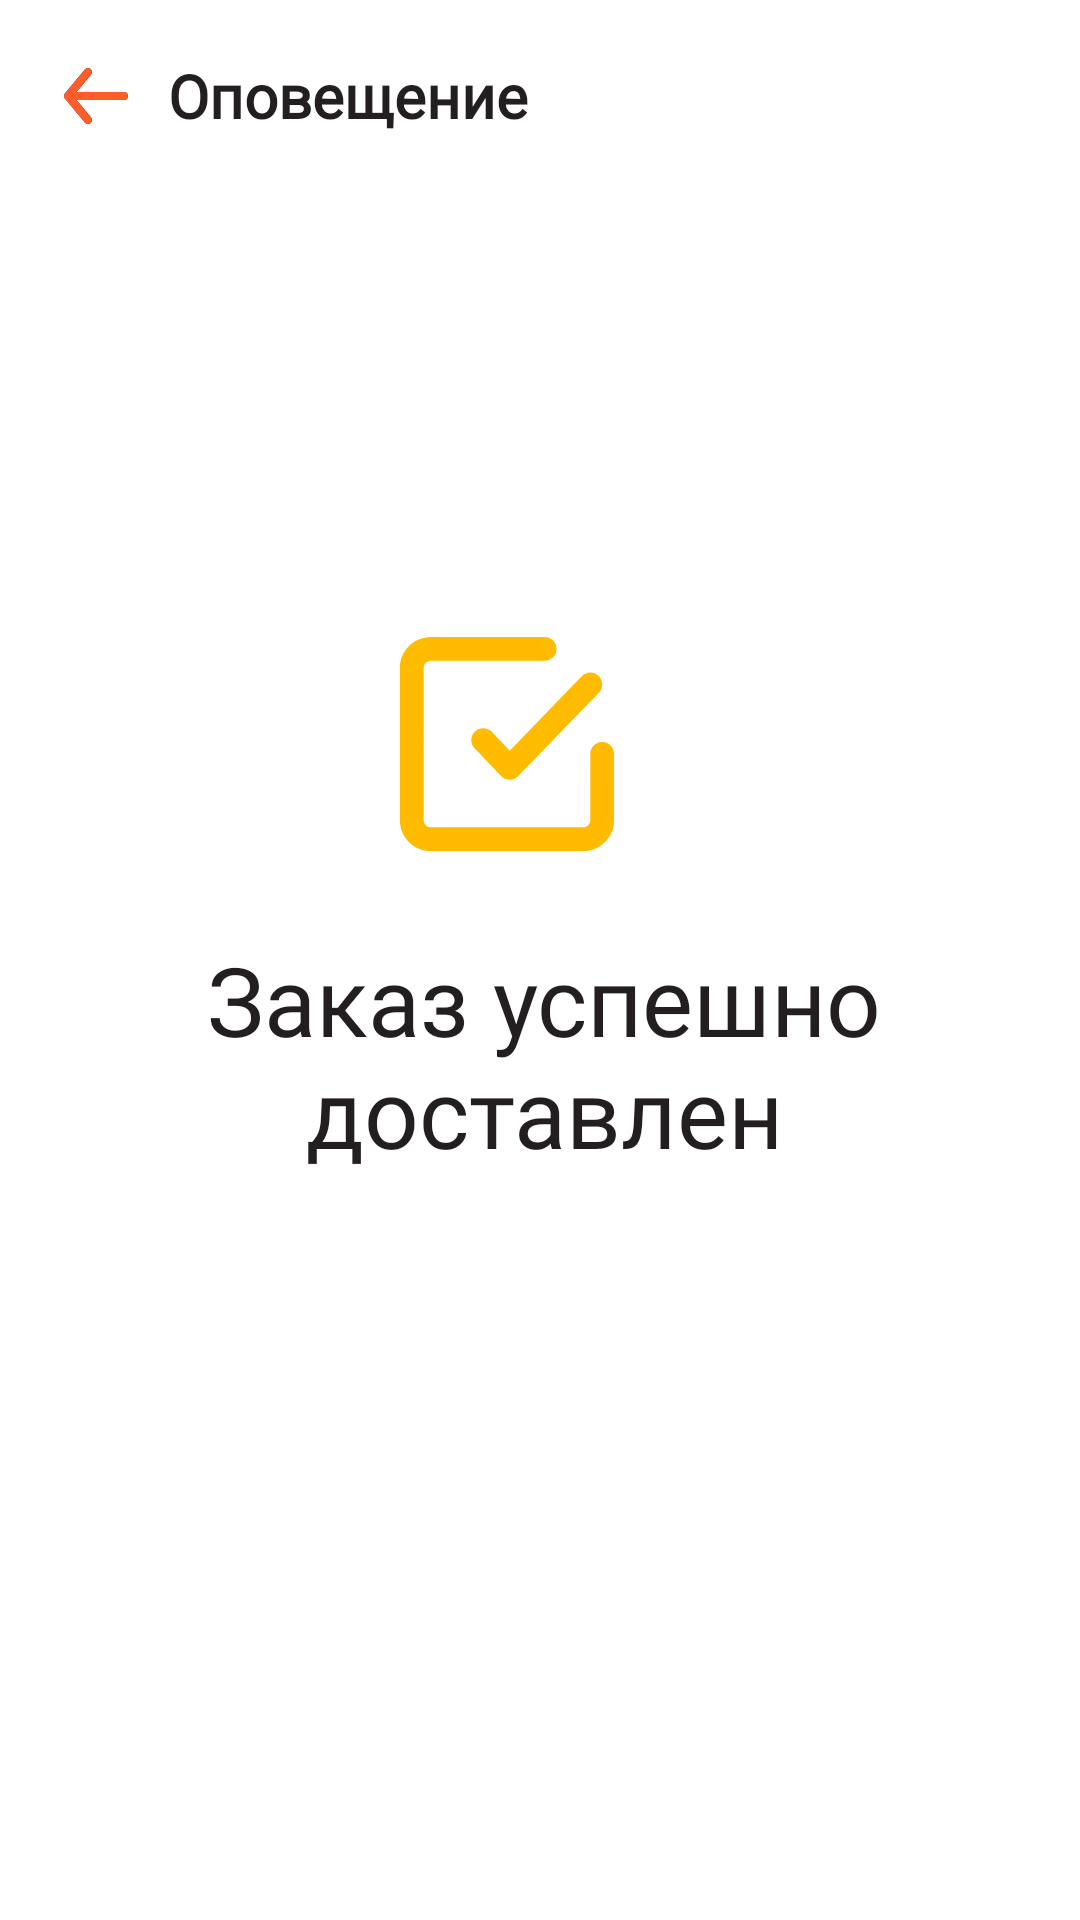

Named icons in this screenshot (1080×1920) and their centers, (x=x, y=y):
arrow left: (x=96, y=96)
check: (x=507, y=744)
